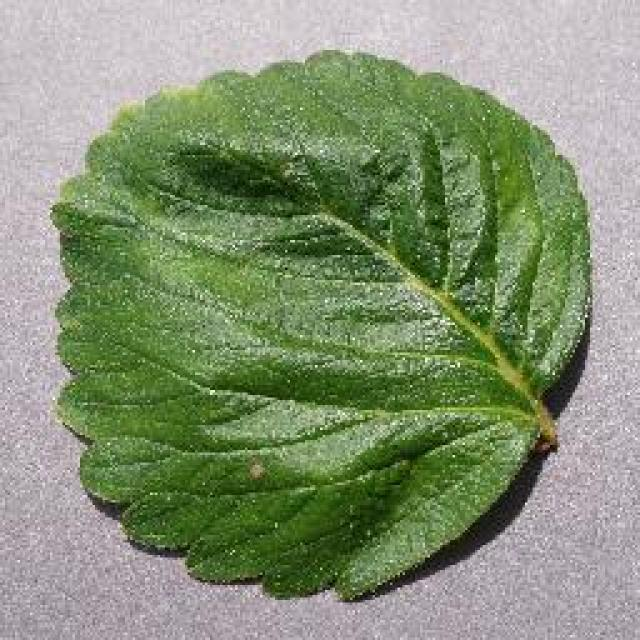Strawberry___healthy: (35, 28, 605, 628)
